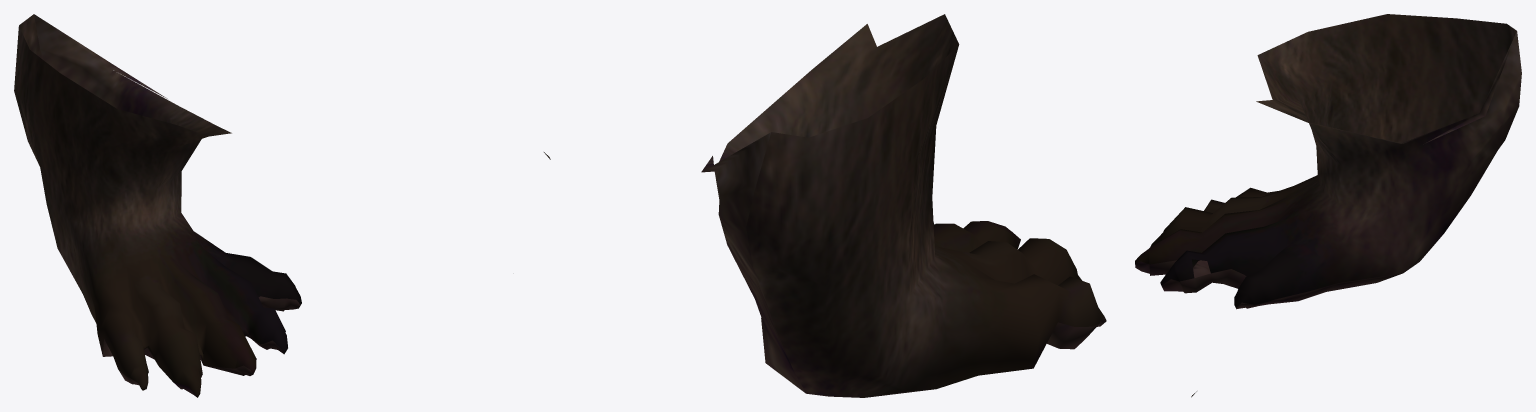
Rendered from nutriapatadelanteraderecha.obj.
3 renders of one model, left to right at view 1: azimuth 30°, elevation 25°; view 2: azimuth 150°, elevation 25°; view 3: azimuth 270°, elevation 25°, orthographic. The views are drawn at different scales.
Parts seen in each view (by area): view 1: body_Mat.1_0.003_Mat.1; view 2: body_Mat.1_0.003_Mat.1; view 3: body_Mat.1_0.003_Mat.1.
Part boxes in pixels (<box>): body_Mat.1_0.003_Mat.1: <box>14,14,301,397</box>; body_Mat.1_0.003_Mat.1: <box>544,14,1106,397</box>; body_Mat.1_0.003_Mat.1: <box>1135,14,1521,397</box>.
Bounding box in the file's own units: 23.84 × 14.42 × 20.95.
1 material, 1 textured.
